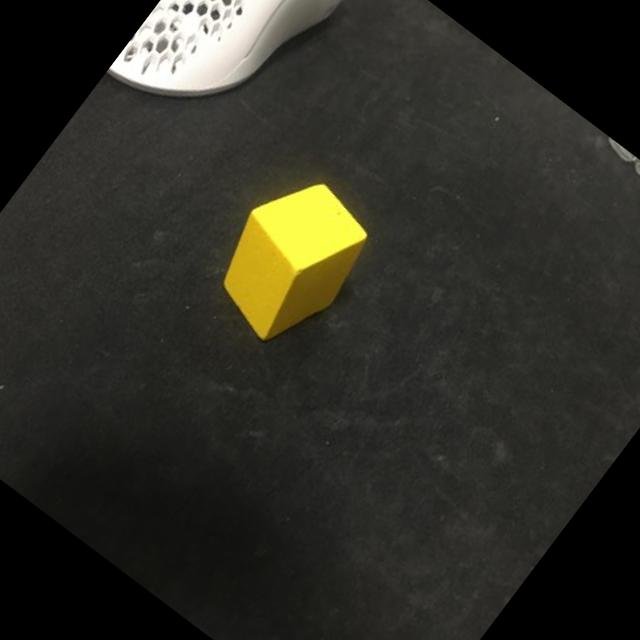yellow: (192, 158, 388, 362)
